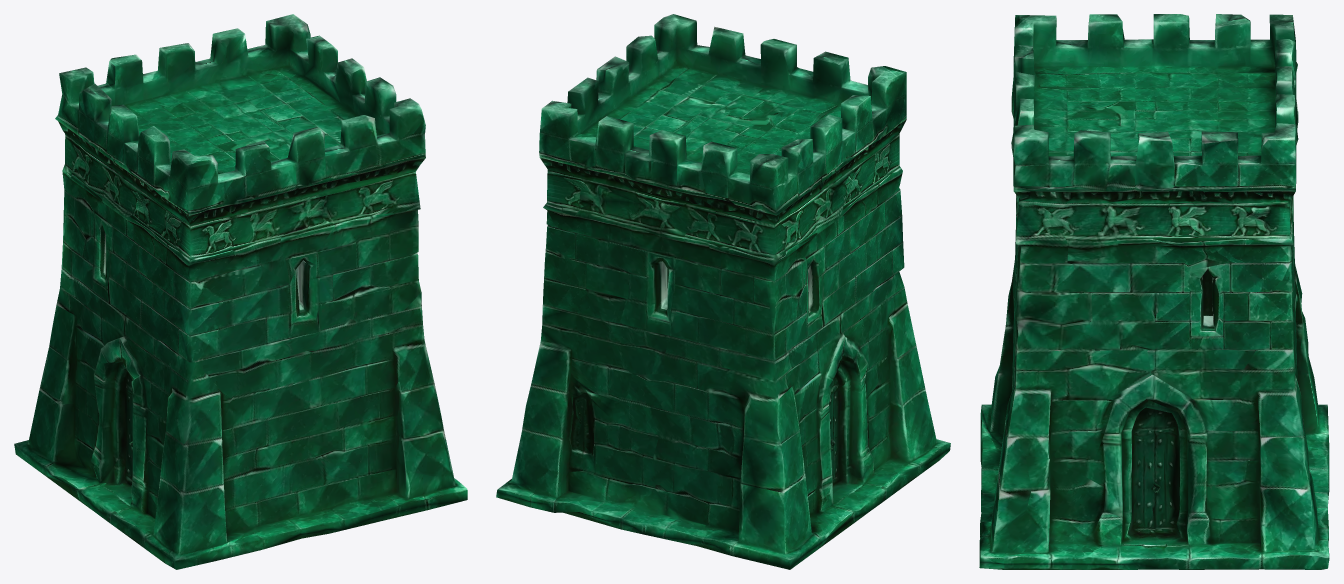
The model's file is castle_tower_short_diamond_green.glb.
3 renders of one model, left to right at view 1: azimuth 30°, elevation 25°; view 2: azimuth 150°, elevation 25°; view 3: azimuth 270°, elevation 25°, orthographic. The views are drawn at different scales.
Visible parts, largest first — view 1: tripo_node_91cbcaf0-e89d-45aa-b8c4-bb21d084d114; view 2: tripo_node_91cbcaf0-e89d-45aa-b8c4-bb21d084d114; view 3: tripo_node_91cbcaf0-e89d-45aa-b8c4-bb21d084d114.
Boxes of the visible parts, x1,y1,x2,y2 form: tripo_node_91cbcaf0-e89d-45aa-b8c4-bb21d084d114: (14, 14, 467, 569); tripo_node_91cbcaf0-e89d-45aa-b8c4-bb21d084d114: (496, 14, 950, 569); tripo_node_91cbcaf0-e89d-45aa-b8c4-bb21d084d114: (979, 14, 1329, 569).
Size of the model in its own units: 0.7787 by 0.9782 by 0.7436.
1 material, 1 textured.
